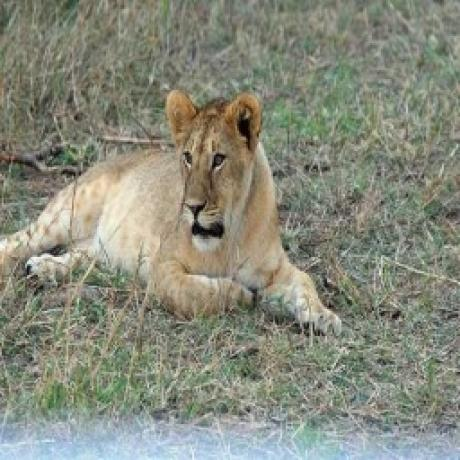Lion: (0, 85, 344, 339)
